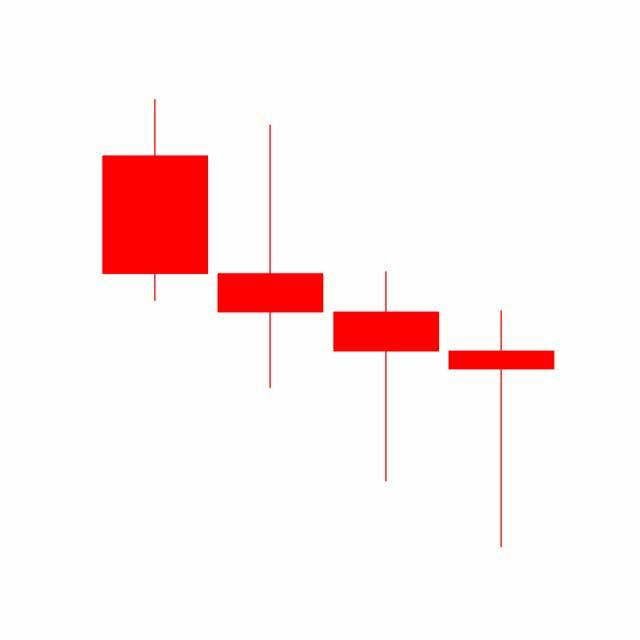Spinning Top: (329, 270, 445, 485)
